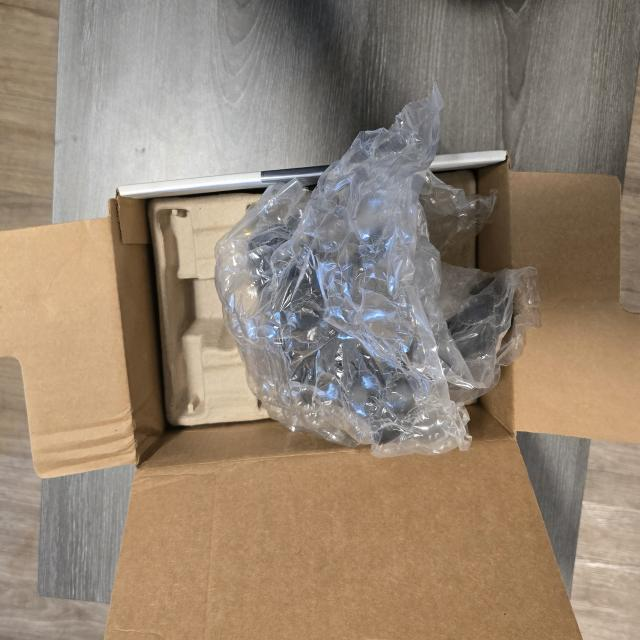9c: (215, 89, 539, 457)
